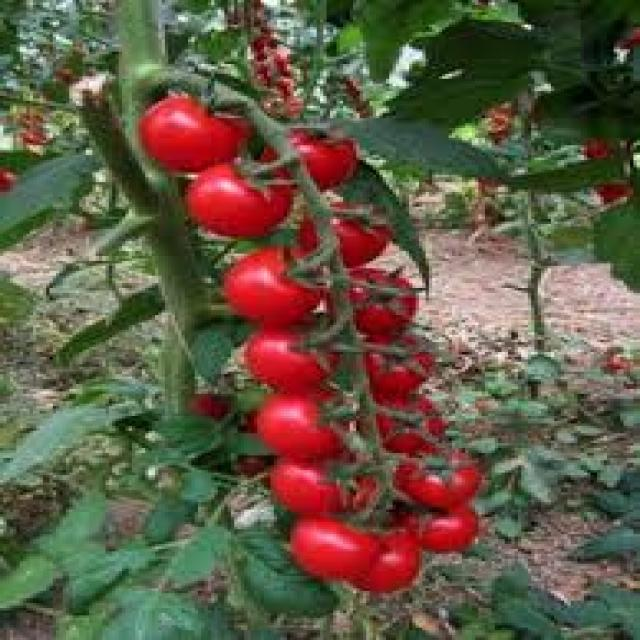organic waste: (135, 89, 244, 170), (188, 155, 290, 234), (218, 248, 320, 318), (333, 261, 419, 342), (356, 384, 449, 458), (267, 448, 360, 517), (251, 386, 343, 453), (280, 512, 376, 576), (261, 123, 353, 187), (346, 335, 436, 399), (396, 448, 482, 510), (304, 197, 382, 263), (248, 325, 326, 386), (360, 517, 419, 588), (402, 500, 478, 551), (231, 408, 274, 468), (182, 387, 224, 438), (251, 44, 287, 82), (472, 108, 508, 140), (607, 352, 637, 389), (244, 24, 277, 52), (10, 96, 39, 126), (594, 170, 623, 199), (260, 67, 294, 91), (577, 131, 607, 155), (17, 126, 46, 150), (274, 94, 297, 115), (49, 62, 72, 76), (0, 165, 13, 185)
